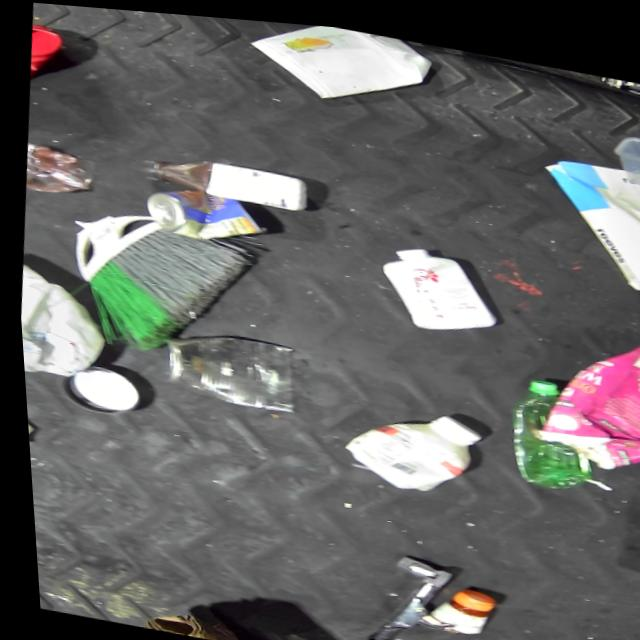can: (146, 318, 302, 414), (137, 176, 271, 250), (49, 356, 139, 418)
milk_jug: (14, 259, 110, 391), (20, 373, 34, 462)
non_white_jug: (522, 314, 640, 469), (24, 21, 64, 98)
